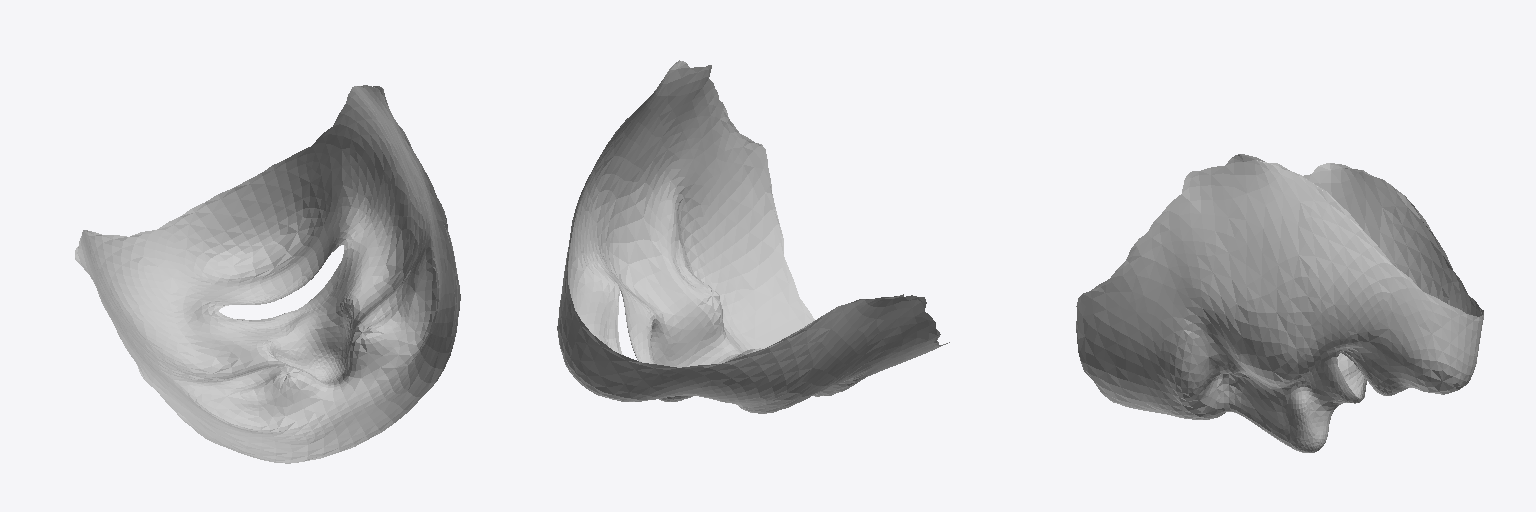
File: face_gab_sfm105.obj
The picture shows the model from 3 angles: view 1: azimuth 30°, elevation 25°; view 2: azimuth 150°, elevation 25°; view 3: azimuth 270°, elevation 25°; orthographic projection.
Size of the model in its own units: 169 by 160 by 191.